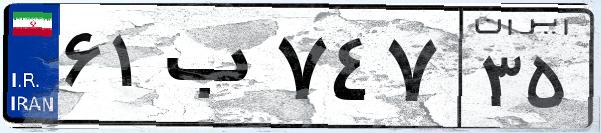1: (110, 28, 158, 98)
3: (475, 38, 525, 113)
4: (330, 28, 385, 110)
5: (525, 38, 570, 115)
6: (57, 26, 110, 100)
7: (270, 28, 330, 110), (385, 28, 445, 110)
ب: (158, 20, 270, 120)
